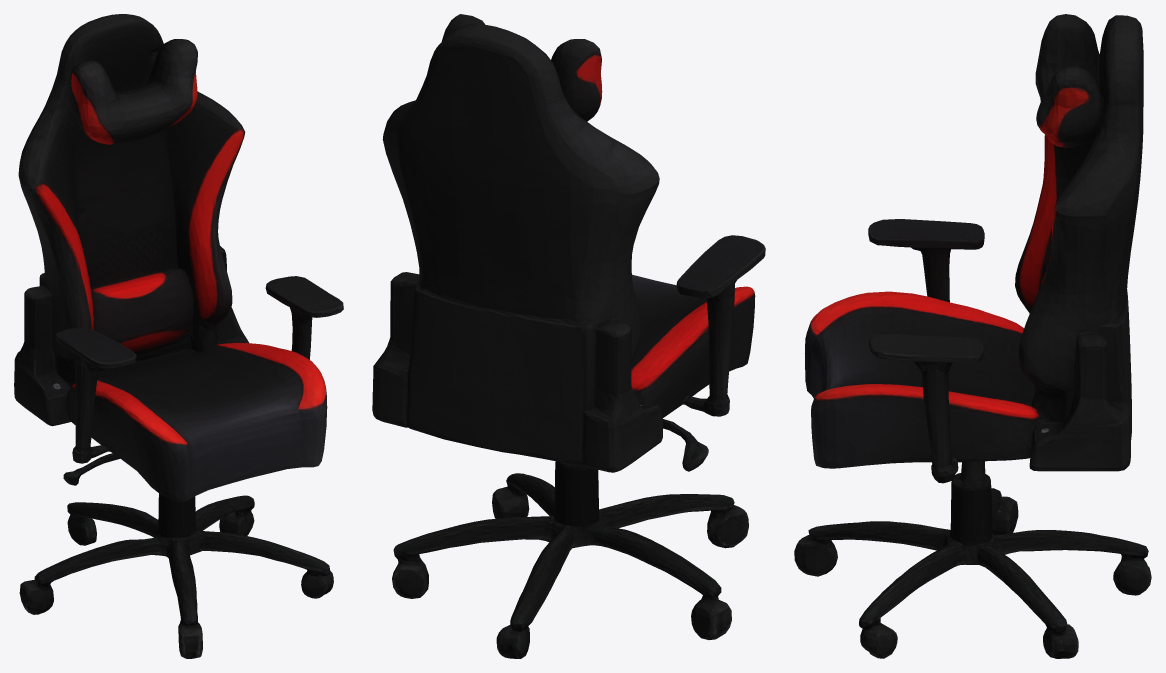
File: gaming_chair_bucket_seat_red_b.glb
3 views of the same model, side by side, from view 1: azimuth 30°, elevation 25°; view 2: azimuth 150°, elevation 25°; view 3: azimuth 270°, elevation 25° (orthographic). The views are drawn at different scales.
Visible parts, largest first — view 1: world; view 2: world; view 3: world.
Part boxes in pixels (bbox=[...]): world: bbox=[14, 14, 343, 658]; world: bbox=[372, 14, 765, 658]; world: bbox=[794, 14, 1151, 658].
Bounding box in the file's own units: 0.5375 × 1 × 0.5589.
1 material, 1 textured.
